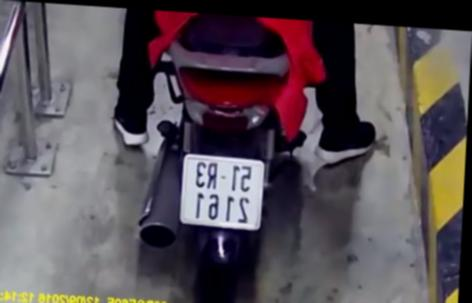License_Plate: (176, 148, 274, 238)
